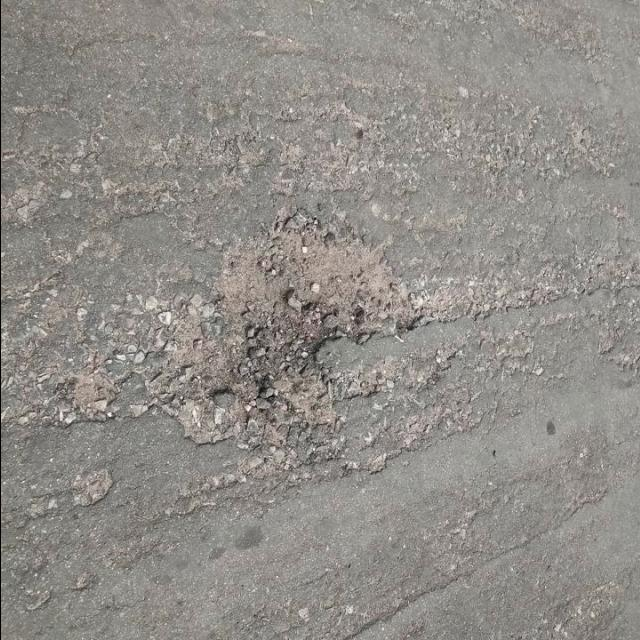pothole: (140, 212, 428, 500)
